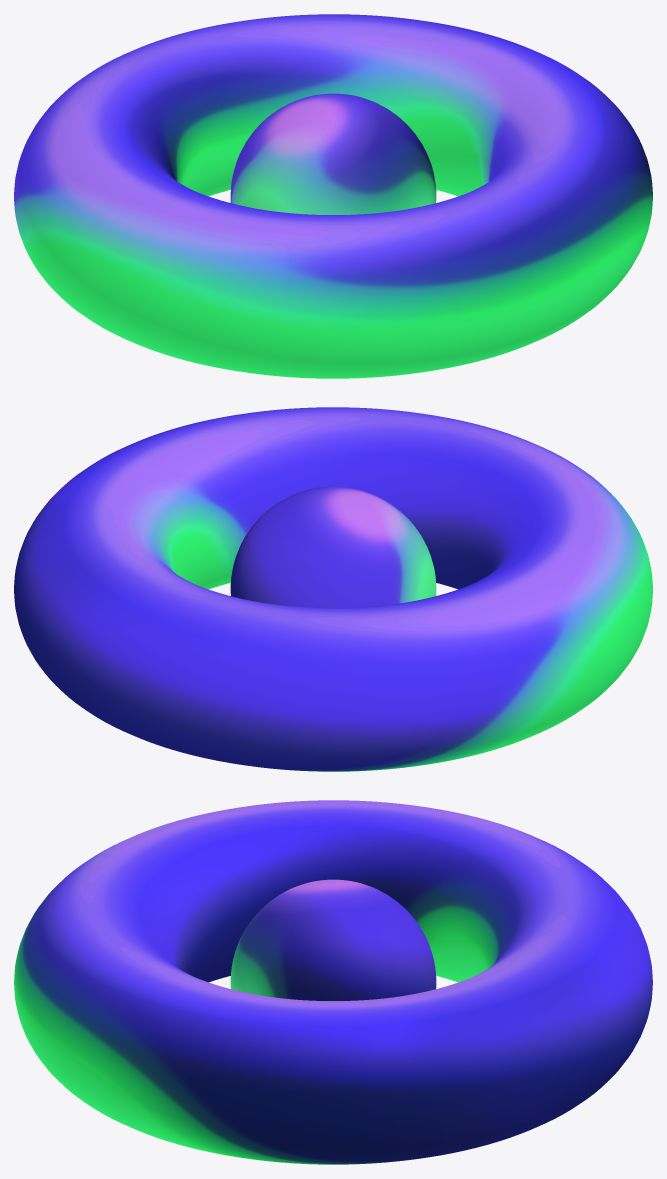
3 renders of one model, top to bottom at view 1: azimuth 30°, elevation 25°; view 2: azimuth 150°, elevation 25°; view 3: azimuth 270°, elevation 25°, orthographic.
Parts seen in each view (by area): view 1: Sphere; view 2: Sphere; view 3: Sphere.
Boxes of the visible parts, box(x1,y1,x2,y2) form: Sphere: box(14, 14, 652, 378); Sphere: box(14, 407, 652, 771); Sphere: box(14, 800, 652, 1164).
Bounding box in the file's own units: 2.42 × 0.78 × 2.42.
1 material, 1 textured.
